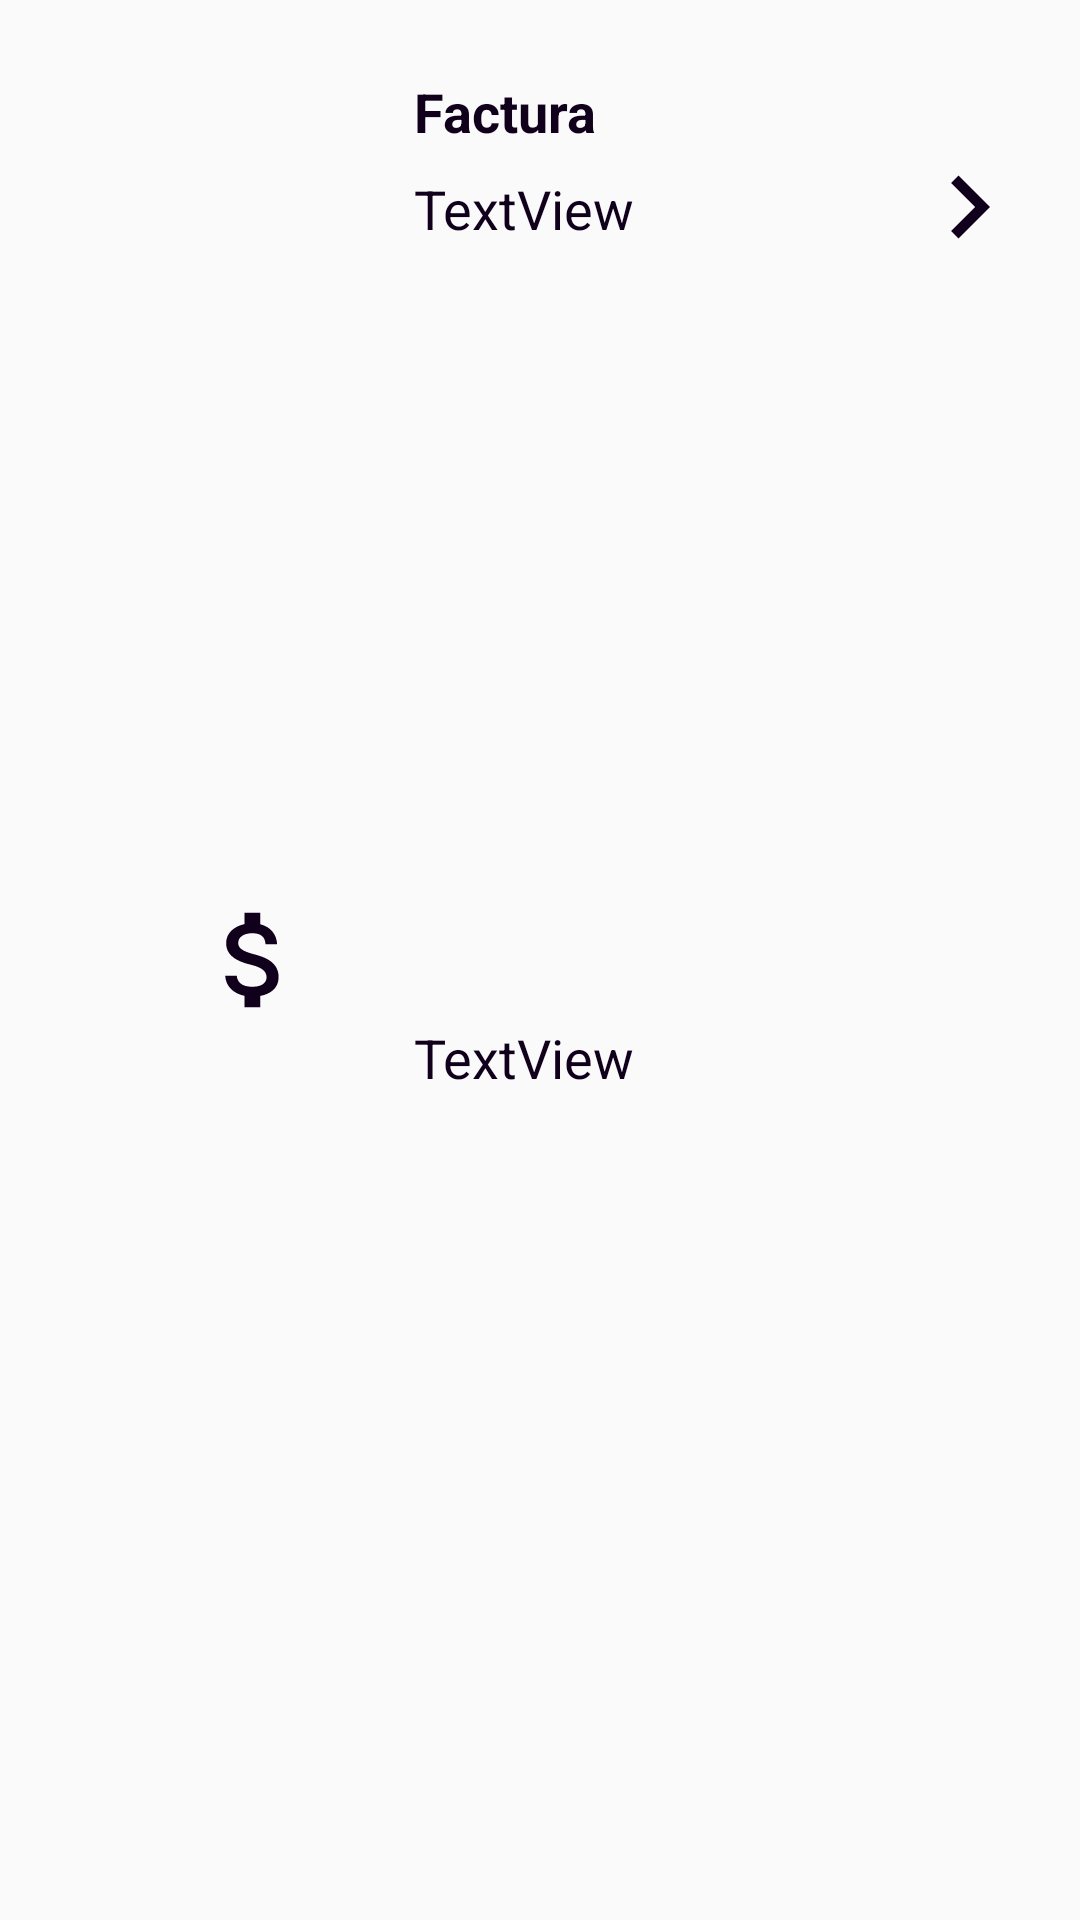

Icon bounding boxes for this 1080 × 1920 phone screenshot, format box(x1, y1, x2, y2):
money: box(225, 912, 279, 1008)
next bill: box(951, 175, 990, 239)
